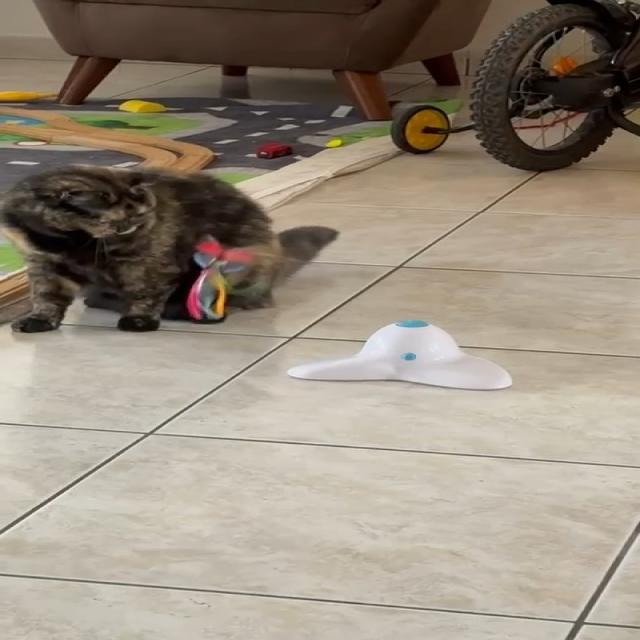authorized: (0, 163, 339, 333)
